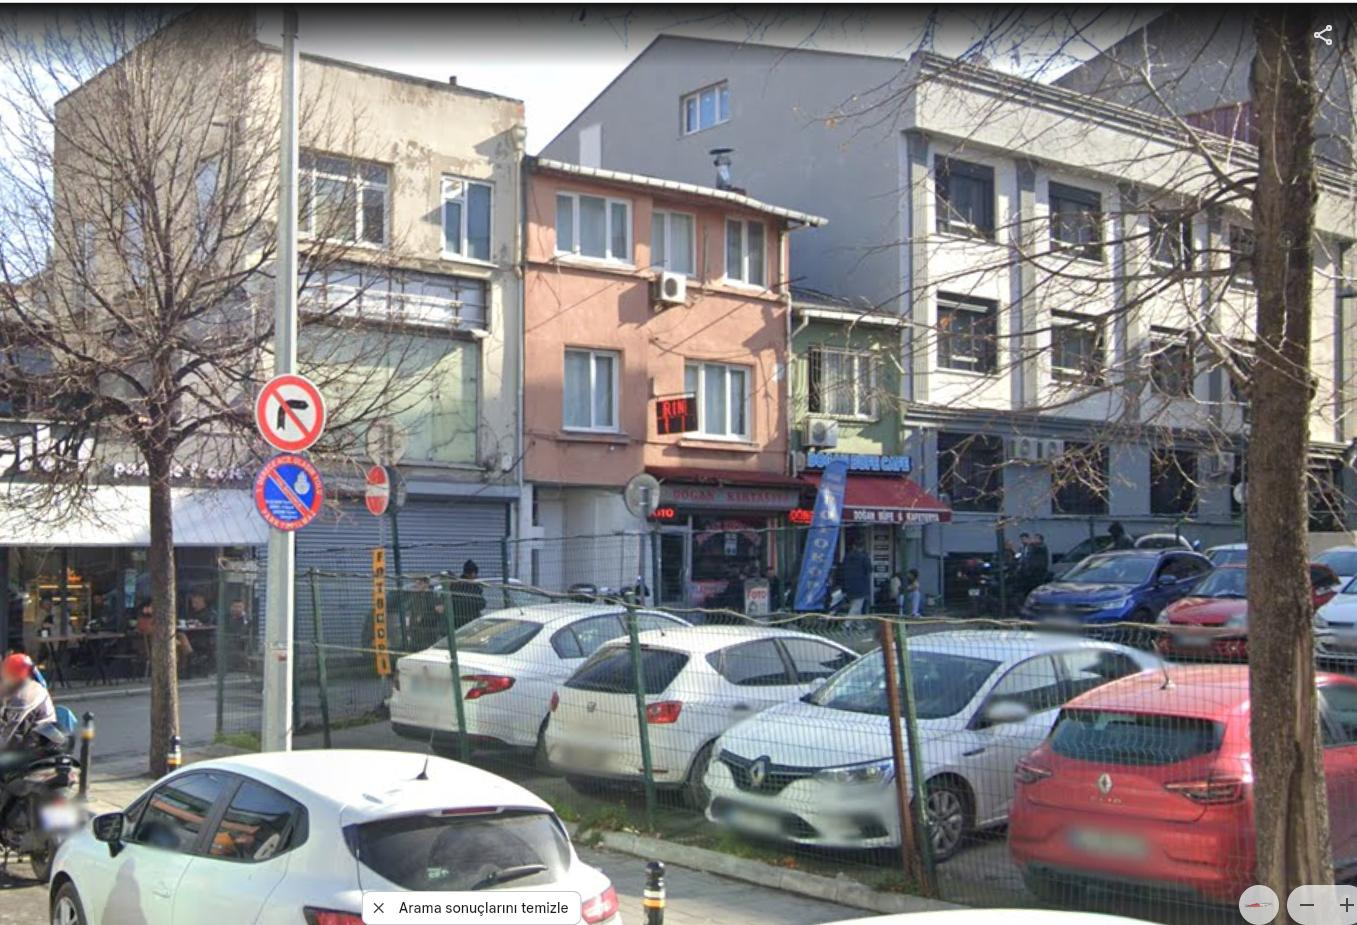rightturnsareforbidden: (257, 373, 325, 448)
